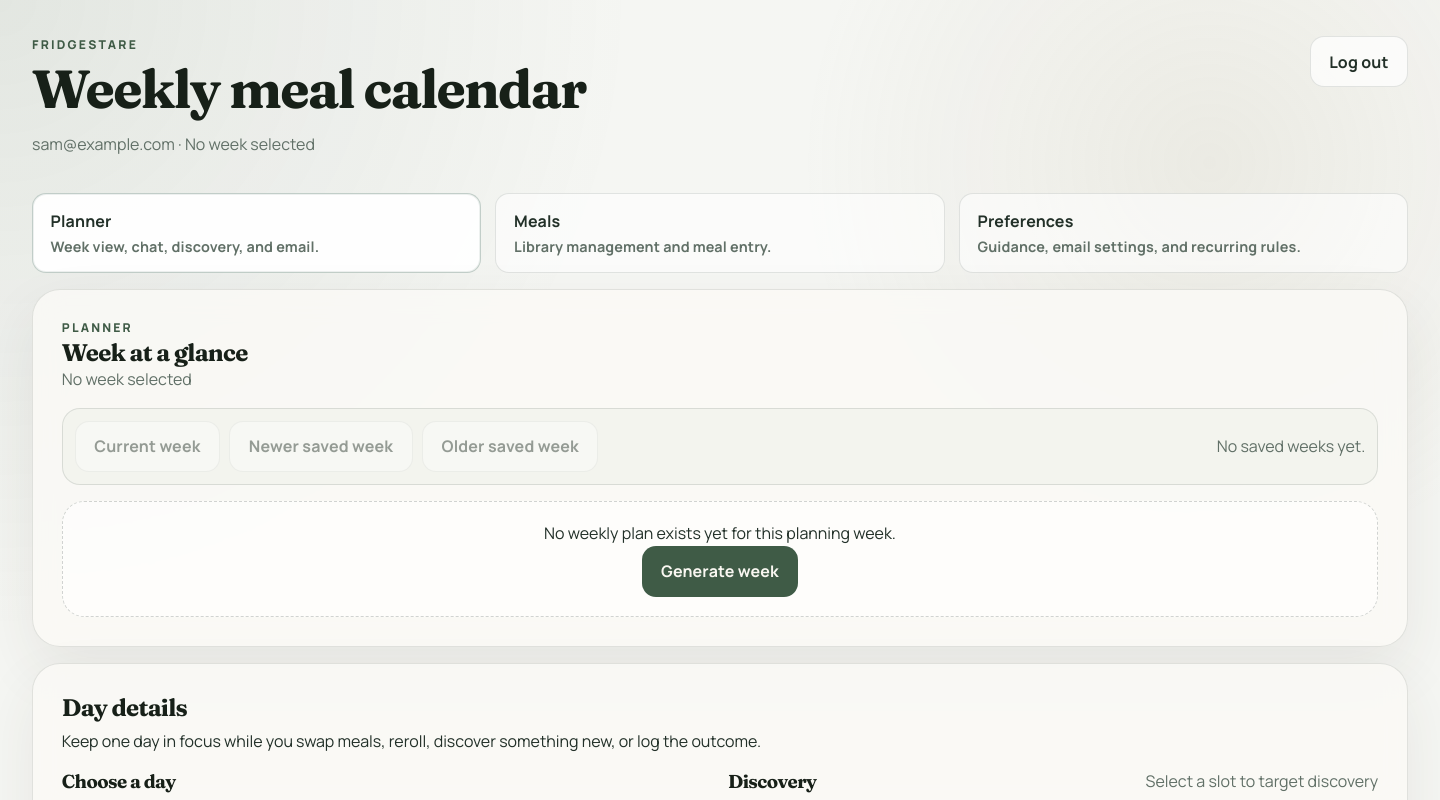
Test: App › renders FastAPI validation errors as readable text
Click the button "Generate week".
click(720, 571)  # box [642,546,798,597]
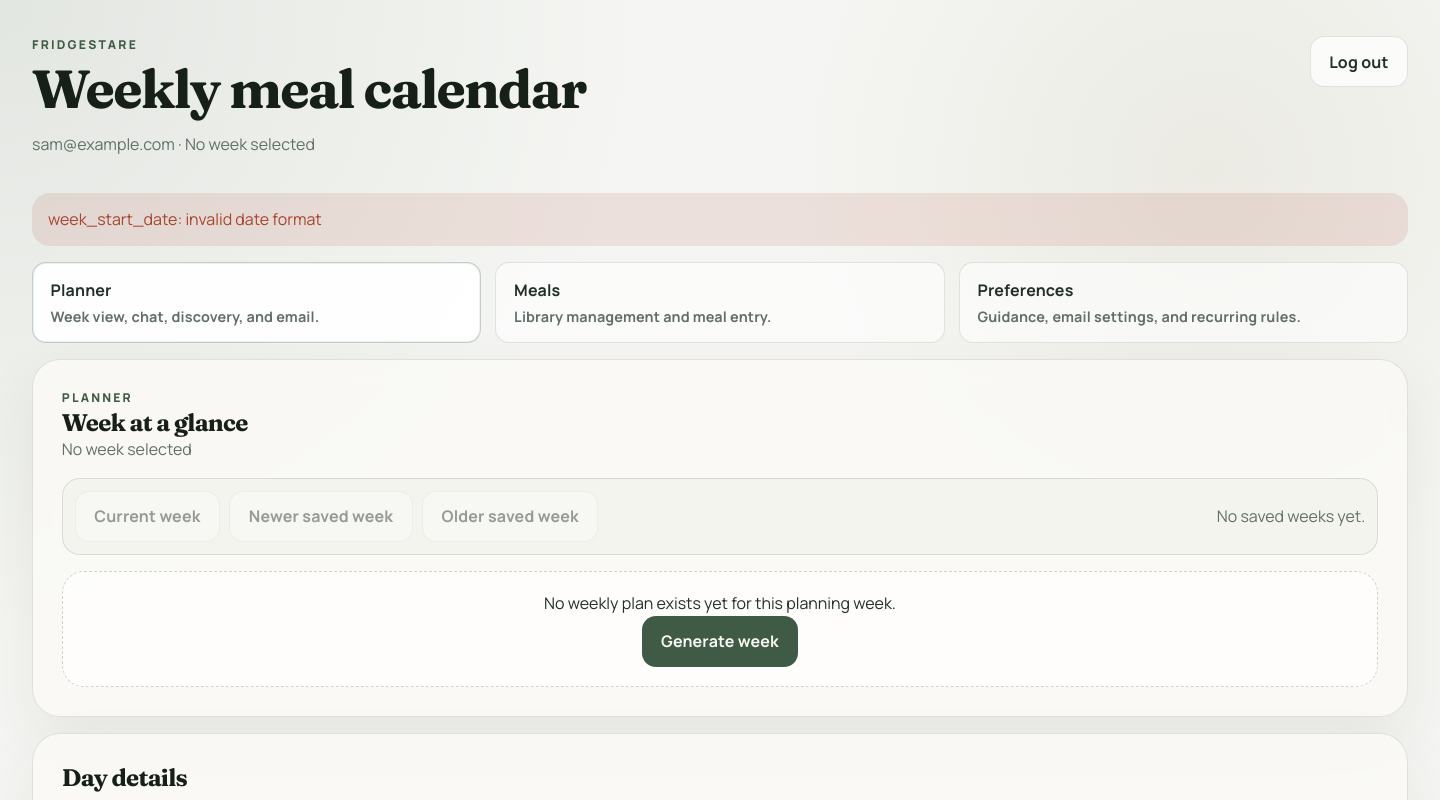
Expected: the message reads "week_start_date: invalid date format", [48,208,322,230]
